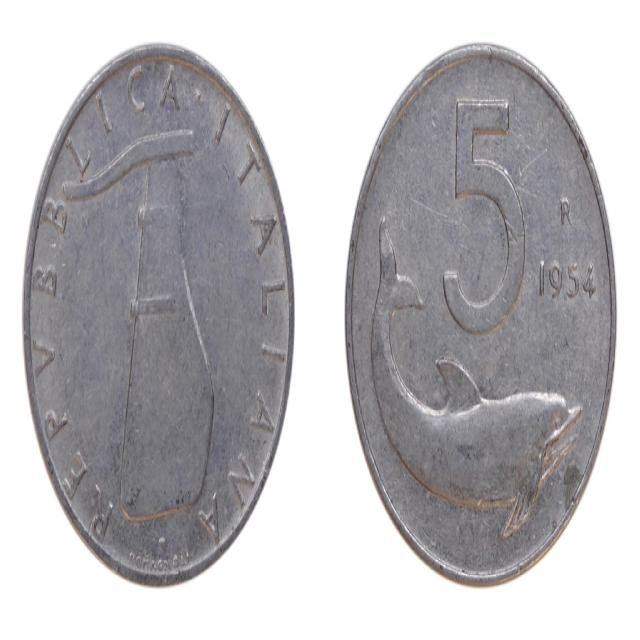Coin: (22, 36, 295, 586), (345, 42, 615, 588)
